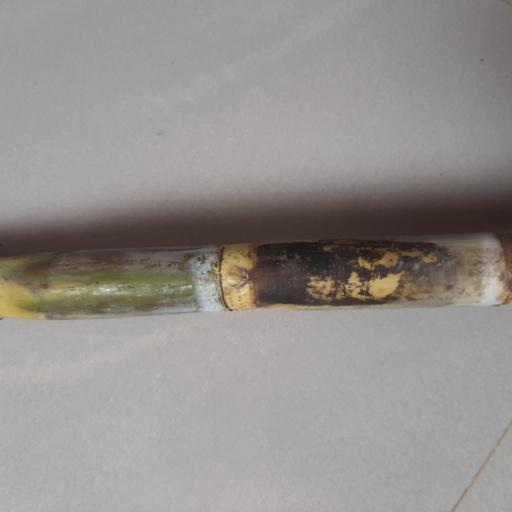Bud: (220, 265, 247, 289)
